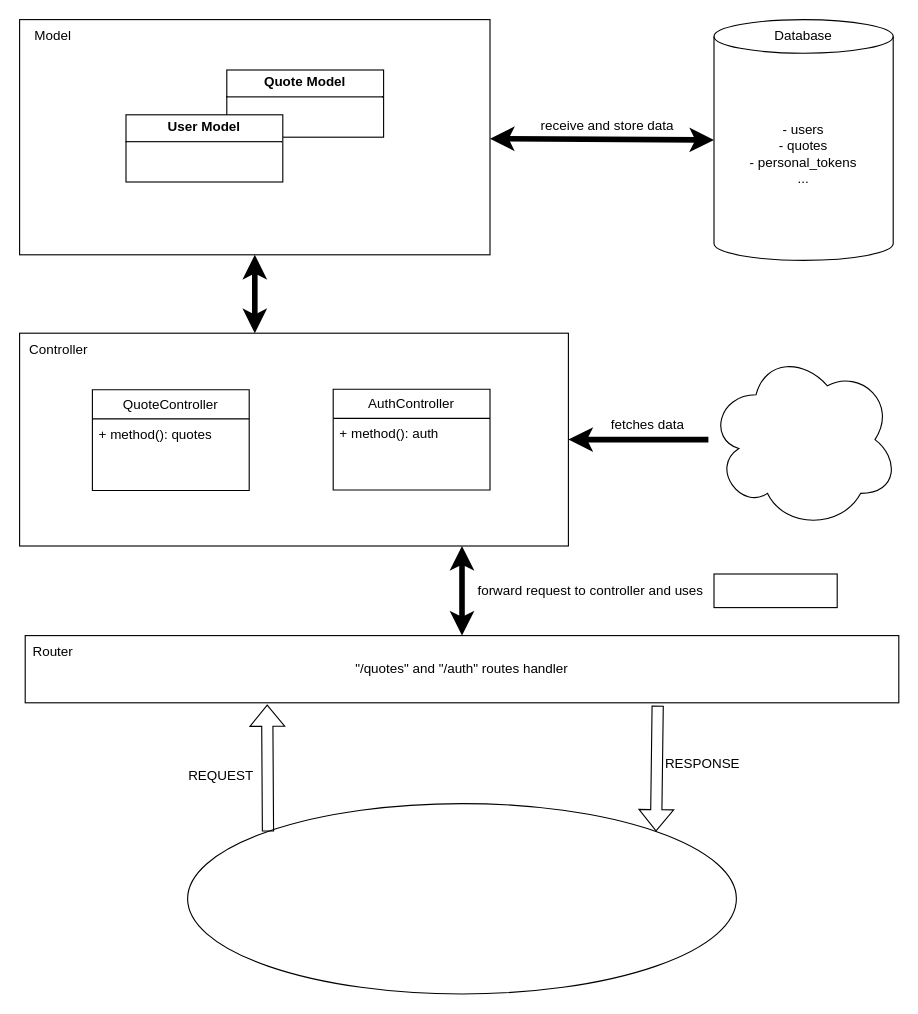
This 918x1014 diagram has some shape labels left out. Each missing label, with the centre of its shape:
"Angular/Vue/React Frontend" belongs at point 461,898.
"Auth Middleware" belongs at point 775,590.
"Simpsons-API" belongs at point 803,439.
